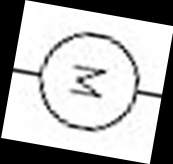t2: (34, 29, 146, 134)
